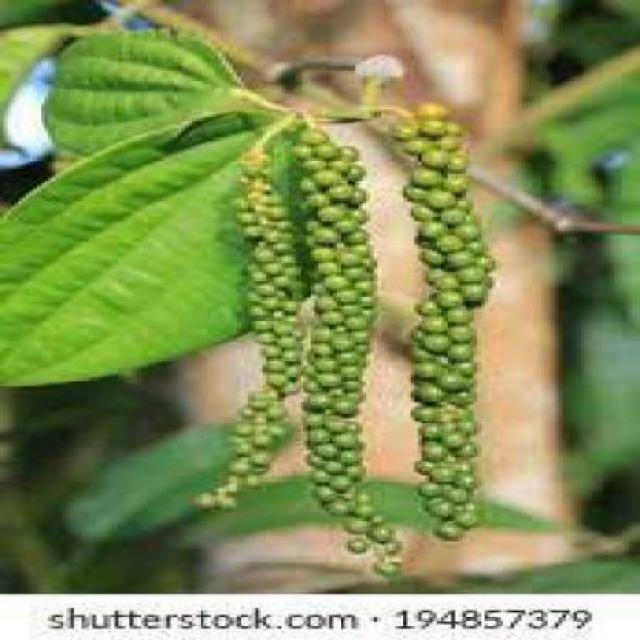UNRIPE: (273, 113, 396, 570), (392, 85, 511, 532), (222, 132, 289, 508)
